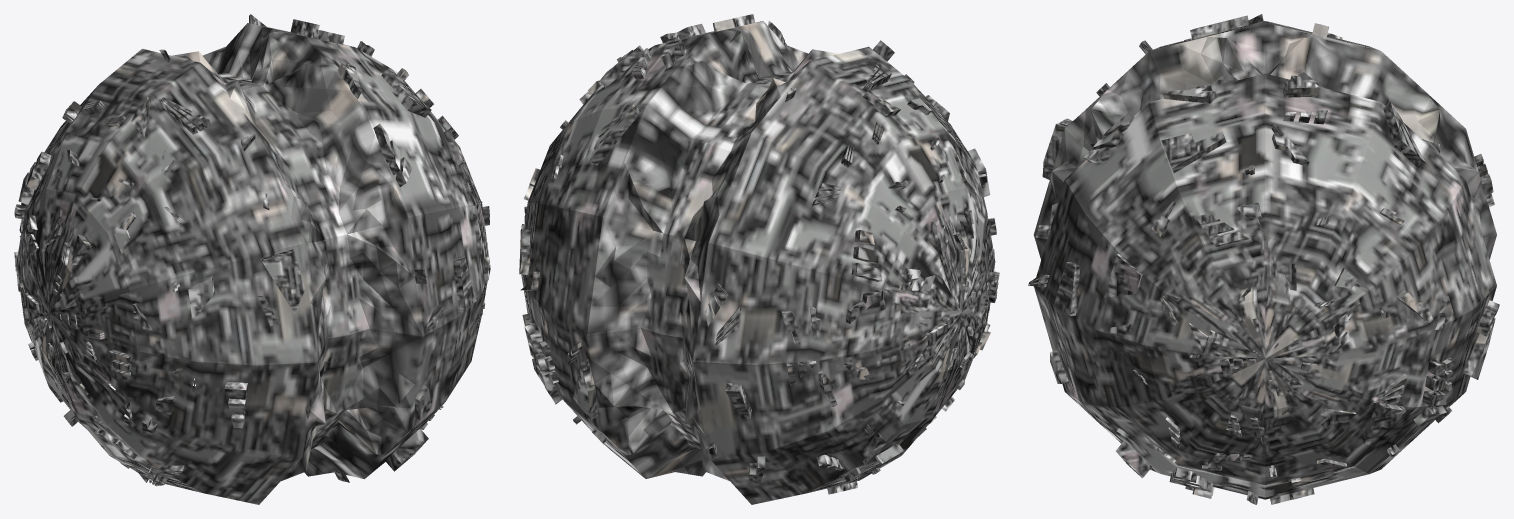
Rendered from Dstarball_wtf.obj.
3 views of the same model, side by side, from view 1: azimuth 30°, elevation 25°; view 2: azimuth 150°, elevation 25°; view 3: azimuth 270°, elevation 25° (orthographic).
Visible parts, largest first — view 1: group2, group3, group65, group82, group97, group96, group49, group68, group39, group78, group50; view 2: group2, group3, group86, group39, group73, group88, group99, group59; view 3: group2, group3, group97, group86, group111, group96, group82, group103, group88, group113, group73, group65 (+7 smaller).
Part boxes in pixels (x1,y1,x2,y2): group2: (16, 24, 489, 504); group3: (172, 23, 422, 480); group65: (260, 249, 305, 313); group82: (373, 124, 412, 187); group97: (381, 68, 431, 117); group96: (453, 256, 476, 311); group49: (224, 381, 247, 428); group68: (159, 97, 211, 134); group39: (18, 151, 50, 205); group78: (385, 428, 428, 471); group50: (188, 275, 214, 320); group2: (521, 21, 995, 504); group3: (587, 21, 838, 480); group86: (589, 105, 640, 165); group39: (851, 230, 882, 281); group73: (573, 359, 598, 419); group88: (524, 323, 556, 389); group99: (599, 45, 643, 87); group59: (725, 383, 751, 418); group2: (1034, 21, 1496, 499); group3: (1033, 22, 1496, 347); group97: (1161, 132, 1226, 172); group86: (1383, 102, 1425, 168); group111: (1104, 254, 1142, 297); group96: (1053, 261, 1080, 315); group82: (1084, 112, 1134, 163); group103: (1361, 403, 1405, 444); group88: (1422, 360, 1446, 405); group113: (1195, 213, 1248, 246); group73: (1463, 318, 1495, 379); group65: (1042, 118, 1072, 179).
Bounding box in the file's own units: 660 × 660 × 660.
